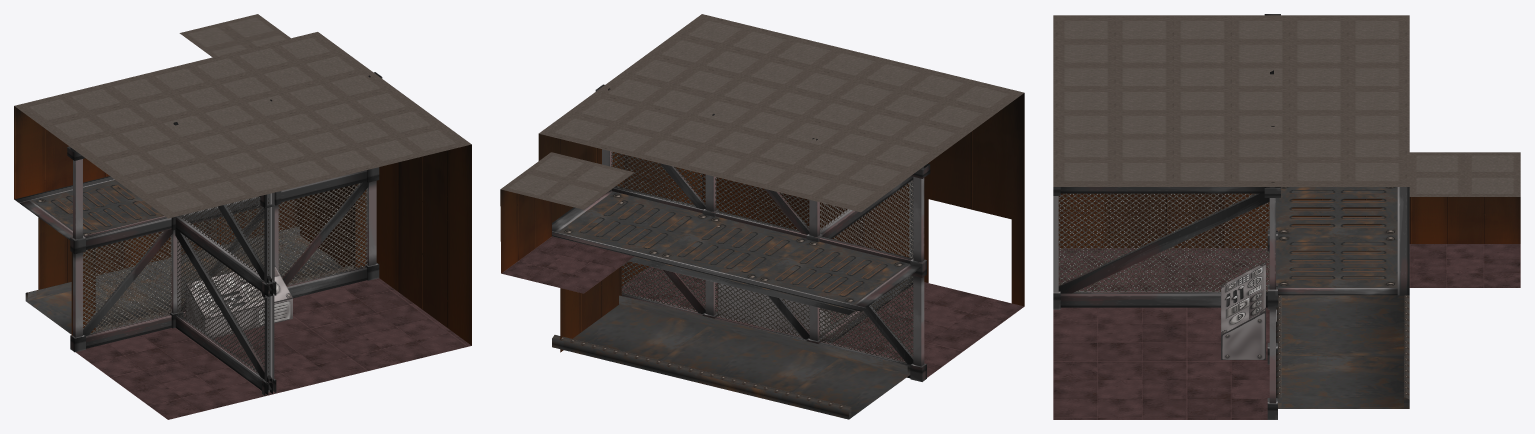
File: molten_connector_bellows.fbx
The picture shows the model from 3 angles, left to right: view 1: azimuth 30°, elevation 25°; view 2: azimuth 150°, elevation 25°; view 3: azimuth 270°, elevation 25°; orthographic projection. The views are drawn at different scales.
Visible parts, largest first — view 1: Walls, BarriersSupports, Barrier, ConveyorBackwall, ConveyorWalkway, Belts, Console; view 2: Walls, ConveyorWalkway, Belts, Barrier, BarriersSupports, ConveyorBackwall, Console; view 3: Walls, Belts, ConveyorWalkway, Barrier, BarriersSupports, Console, ConveyorBackwall.
Boxes of the visible parts, box(x1,y1,x2,y2) form: Walls: box(14, 14, 471, 419); BarriersSupports: box(67, 72, 382, 395); Barrier: box(83, 183, 367, 381); ConveyorBackwall: box(38, 184, 366, 335); ConveyorWalkway: box(14, 170, 367, 249); Belts: box(25, 226, 354, 334); Console: box(186, 265, 292, 338); Walls: box(500, 14, 1024, 377); ConveyorWalkway: box(552, 186, 920, 314); Belts: box(552, 295, 910, 419); Barrier: box(611, 152, 913, 362); BarriersSupports: box(595, 84, 930, 381); ConveyorBackwall: box(560, 266, 621, 352); Console: box(717, 283, 830, 334); Walls: box(1053, 15, 1520, 419); Belts: box(1276, 259, 1409, 408); ConveyorWalkway: box(1276, 187, 1409, 295); Barrier: box(1058, 193, 1269, 292); BarriersSupports: box(1053, 14, 1280, 419); Console: box(1221, 261, 1265, 359); ConveyorBackwall: box(1292, 199, 1381, 251).
Size of what is drawn, in the model's own units: 1824 by 1152 by 2072.
